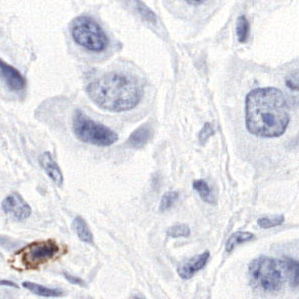Lymphocyte: (12, 237, 68, 265)
